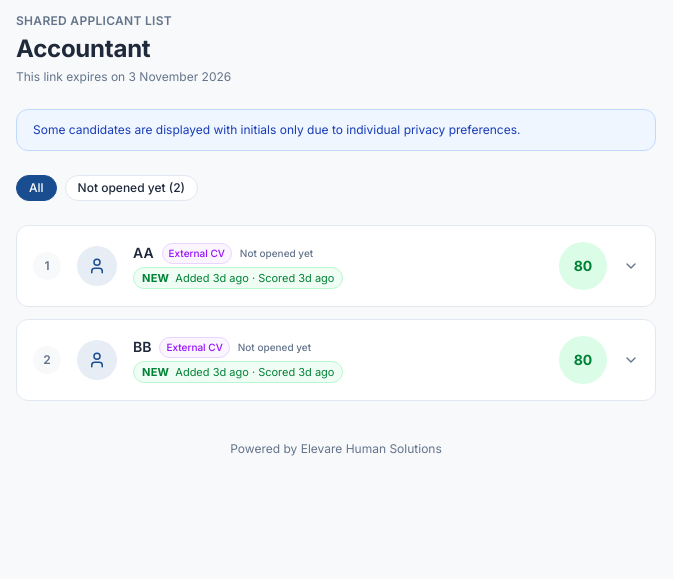
Test case: SharedApplicantsPage, what has been opened › opening a candidate's details marks it opened at once, lowers the count, and tells the server once
Click the button named "Expand details" in the row of "AA" at (631, 266), box [623,258,639,274]
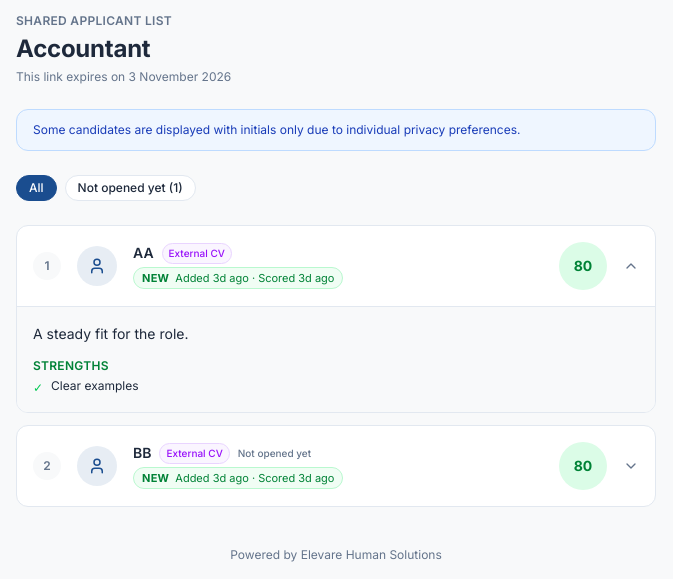
Check: the number of elements with test id "unopened-badge" is 1, box [238,446,311,460]
Check: the tab "Not opened yet (1)" is shown, box [65,175,196,201]
